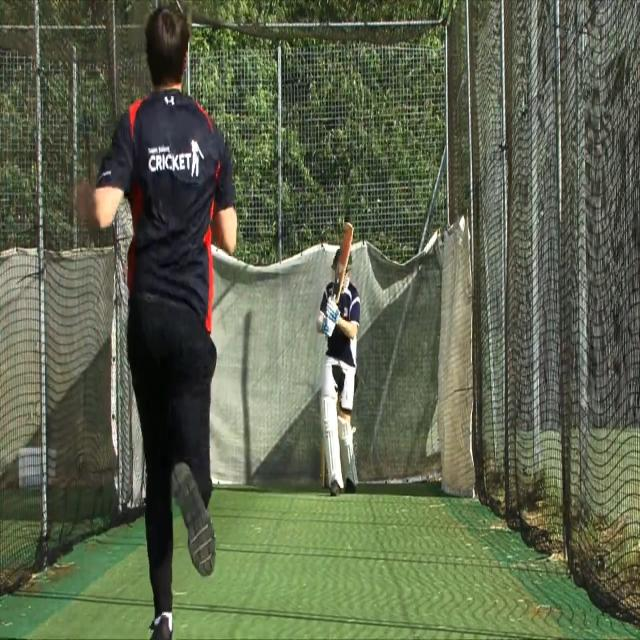batsman: (315, 220, 361, 498)
